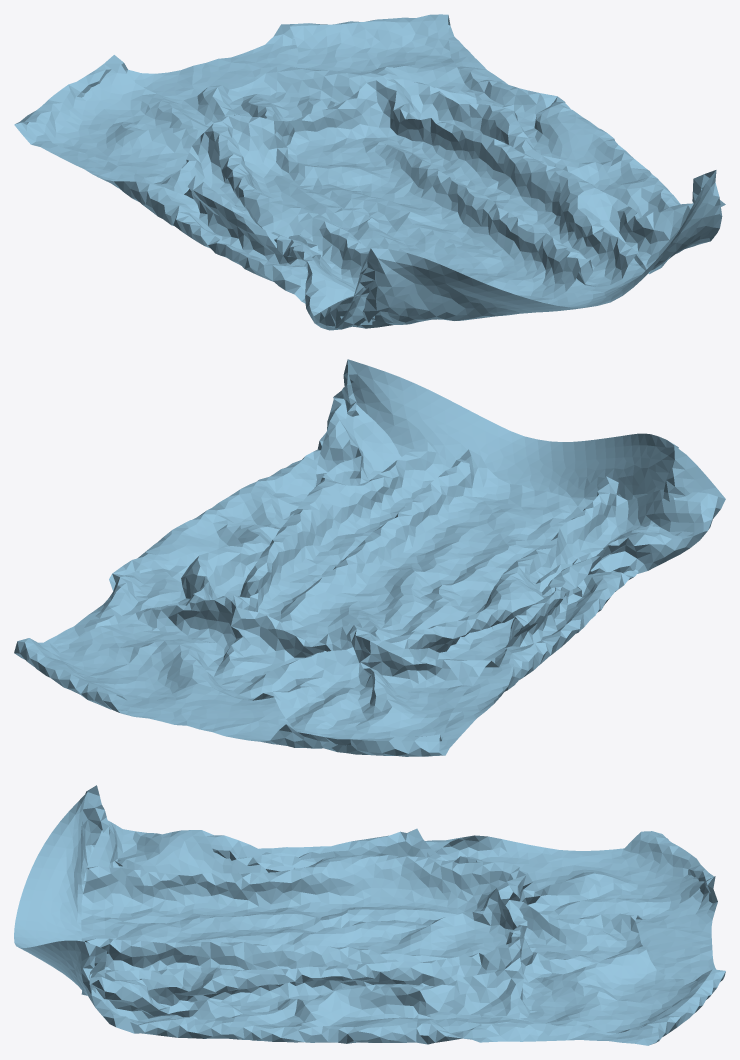
The model's file is frame_04.glb.
3 views of the same model, one above another, from view 1: azimuth 30°, elevation 25°; view 2: azimuth 150°, elevation 25°; view 3: azimuth 270°, elevation 25° (orthographic). The views are drawn at different scales.
Parts seen in each view (by area): view 1: frame_04.obj; view 2: frame_04.obj; view 3: frame_04.obj.
Boxes of the visible parts, x1,y1,x2,y2 form: frame_04.obj: (14,14,725,330); frame_04.obj: (14,359,725,756); frame_04.obj: (14,785,725,1045).
Size of the model in its own units: 1.24 by 0.2647 by 1.84.
